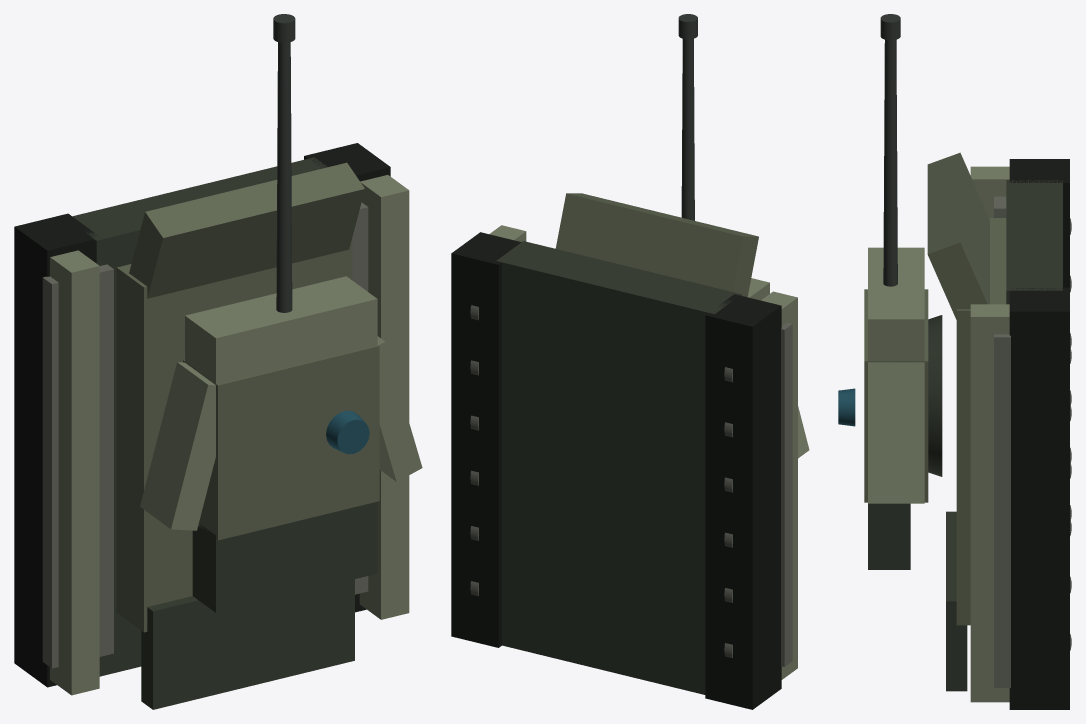
3 renders of one model, left to right at view 1: azimuth 30°, elevation 25°; view 2: azimuth 150°, elevation 25°; view 3: azimuth 270°, elevation 25°, orthographic. The views are drawn at different scales.
Parts seen in each view (by area): view 1: low_autoloader_turret, compact_hull_upper, rear_powerpack_deck, left_light_skirt, sharp_nose_plate, left_track_rubber, rear_autoloader_bustle, pointed_front_wedge, right_light_skirt, left_track_guard, left_turret_angle, compact_hull_lower (+5 smaller); view 2: compact_hull_lower, left_track_rubber, right_track_rubber, sharp_nose_plate, left_track_guard, left_light_skirt, barrel_tube; view 3: right_track_rubber, right_light_skirt, right_turret_angle, sharp_nose_plate, compact_hull_lower, compact_hull_upper, pointed_front_wedge, right_track_guard, barrel_tube, rear_autoloader_bustle, rear_powerpack_deck, turret_ring (+5 smaller).
Boxes of the visible parts, x1,y1,x2,y2 form: low_autoloader_turret: (183, 345, 379, 540); compact_hull_upper: (116, 237, 352, 632); rear_powerpack_deck: (141, 579, 354, 709); left_light_skirt: (50, 250, 99, 695); sharp_nose_plate: (129, 162, 364, 298); left_track_rubber: (14, 213, 99, 687); rear_autoloader_bustle: (192, 501, 377, 612); pointed_front_wedge: (185, 276, 377, 384); right_light_skirt: (359, 175, 409, 619); left_track_guard: (42, 264, 113, 668); left_turret_angle: (140, 362, 215, 530); compact_hull_lower: (72, 157, 327, 676); compact_hull_lower: (496, 241, 741, 694); left_track_rubber: (705, 294, 781, 709); right_track_rubber: (451, 232, 521, 647); sharp_nose_plate: (555, 193, 758, 297); left_track_guard: (781, 322, 792, 666); left_light_skirt: (761, 291, 797, 679); barrel_tube: (681, 38, 694, 220); right_track_rubber: (1009, 287, 1069, 709); right_light_skirt: (970, 304, 1009, 702); right_turret_angle: (868, 362, 924, 503); sharp_nose_plate: (927, 152, 989, 319); compact_hull_lower: (1006, 180, 1062, 304); compact_hull_upper: (956, 218, 1006, 625); pointed_front_wedge: (868, 247, 924, 362); right_track_guard: (994, 334, 1010, 687); barrel_tube: (883, 39, 897, 286); rear_autoloader_bustle: (868, 503, 910, 569); rear_powerpack_deck: (946, 511, 967, 691); turret_ring: (928, 315, 942, 476).
Bounding box in the file's own units: 52.2 × 97.8 × 32.95.
